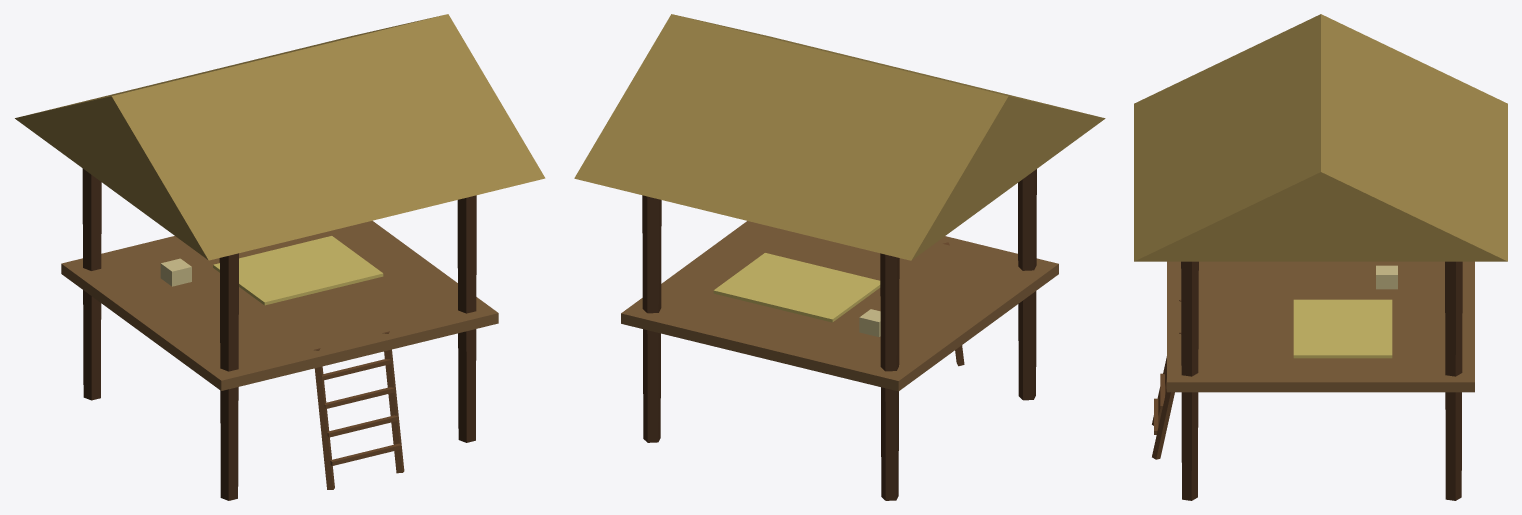
Rendered from a1r_lean_to.glb.
3 views of the same model, side by side, from view 1: azimuth 30°, elevation 25°; view 2: azimuth 150°, elevation 25°; view 3: azimuth 270°, elevation 25° (orthographic). The views are drawn at different scales.
Parts seen in each view (by area): view 1: a1r_lean_to; view 2: a1r_lean_to; view 3: a1r_lean_to.
Part boxes in pixels (bbox=[...]): a1r_lean_to: bbox=[15, 14, 545, 500]; a1r_lean_to: bbox=[574, 14, 1105, 500]; a1r_lean_to: bbox=[1134, 14, 1507, 500].
Size of the model in its own units: 3.4 by 3.51 by 3.4.
